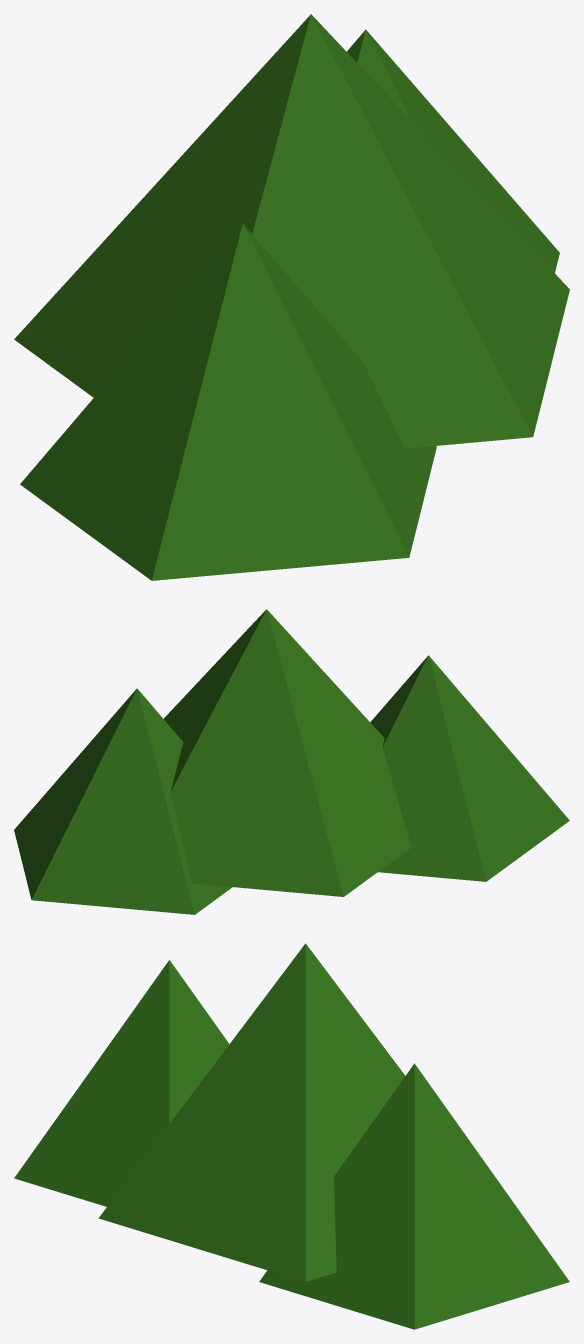
The model's file is bush.obj.
The picture shows the model from 3 angles, top to bottom: view 1: azimuth 30°, elevation 25°; view 2: azimuth 150°, elevation 25°; view 3: azimuth 270°, elevation 25°; orthographic projection. The views are drawn at different scales.
Bounding box in the file's own units: 0.1985 × 0.11 × 0.2042.
